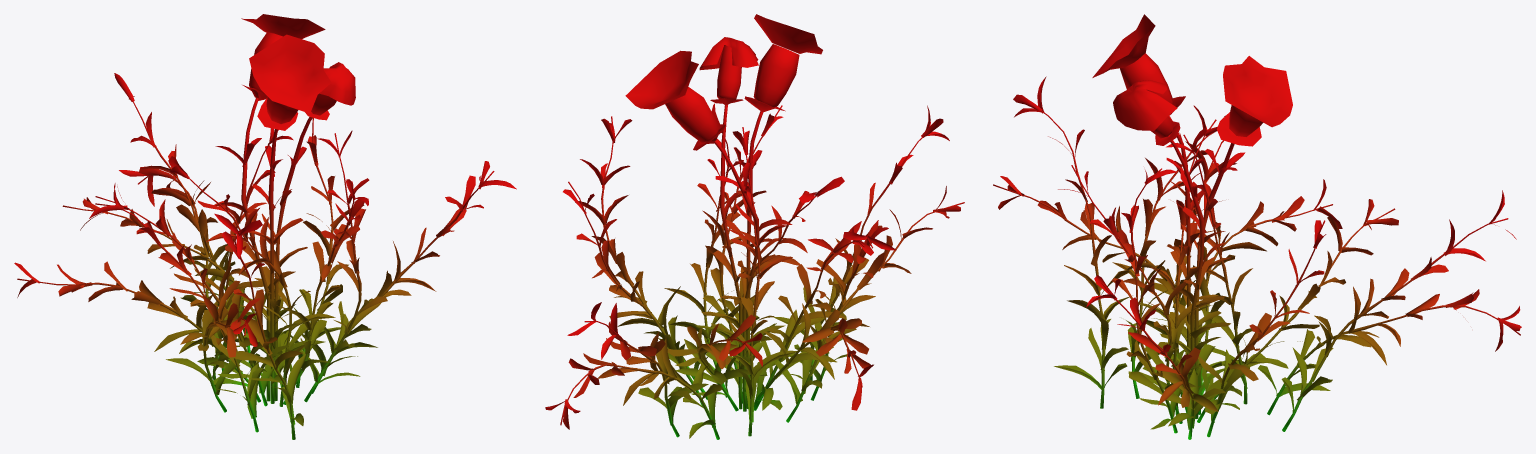
File: Var5_LOD0.fbx
The picture shows the model from 3 angles, left to right: view 1: azimuth 30°, elevation 25°; view 2: azimuth 150°, elevation 25°; view 3: azimuth 270°, elevation 25°; orthographic projection. The views are drawn at different scales.
Parts seen in each view (by area): view 1: _aqc5_Var5_LOD0; view 2: _aqc5_Var5_LOD0; view 3: _aqc5_Var5_LOD0.
Part boxes in pixels (bbox=[...]): _aqc5_Var5_LOD0: bbox=[14, 14, 516, 439]; _aqc5_Var5_LOD0: bbox=[545, 14, 964, 439]; _aqc5_Var5_LOD0: bbox=[993, 14, 1521, 439].
Size of the model in its own units: 23.49 by 22.12 by 27.
